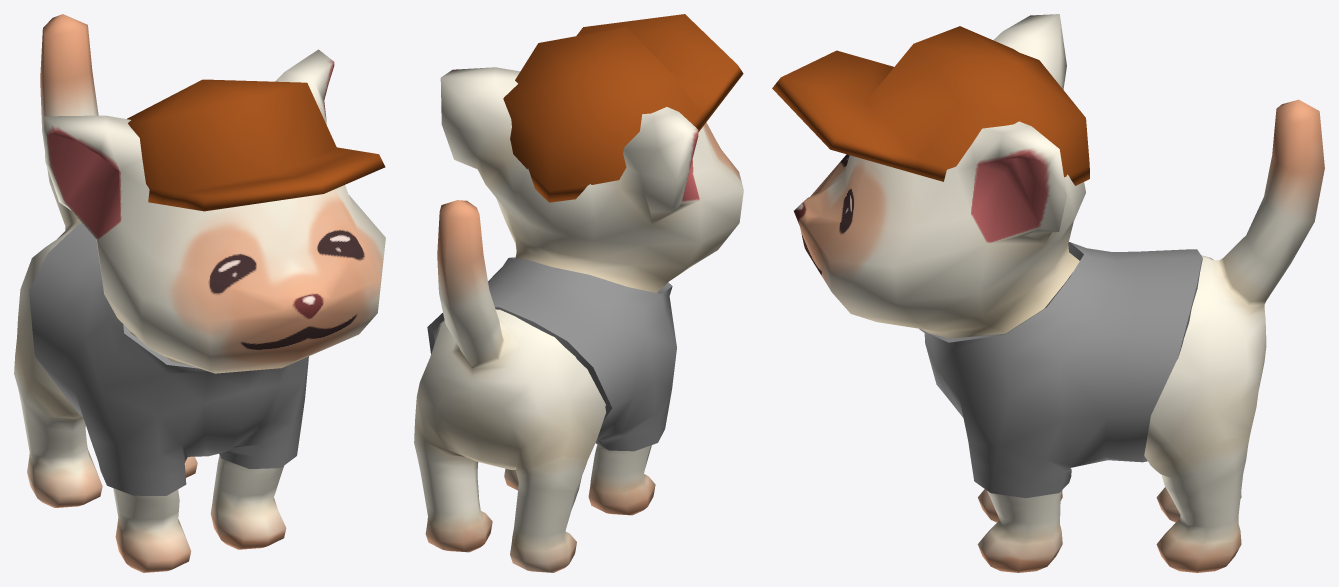
The model's file is Leader Cat02.fbx.
3 views of the same model, side by side, from view 1: azimuth 30°, elevation 25°; view 2: azimuth 150°, elevation 25°; view 3: azimuth 270°, elevation 25° (orthographic). The views are drawn at different scales.
Parts seen in each view (by area): view 1: Cat_Base001, tshirt001, Org_Cat_Hat; view 2: Cat_Base001, Org_Cat_Hat, tshirt001; view 3: Cat_Base001, tshirt001, Org_Cat_Hat.
Boxes of the visible parts, left/top/right/bottom form: Cat_Base001: left=14, top=14, right=385, bottom=572; tshirt001: left=29, top=223, right=308, bottom=495; Org_Cat_Hat: left=127, top=79, right=385, bottom=211; Cat_Base001: left=414, top=67, right=743, bottom=572; Org_Cat_Hat: left=503, top=14, right=743, bottom=202; tshirt001: left=427, top=257, right=676, bottom=451; Cat_Base001: left=794, top=14, right=1324, bottom=572; tshirt001: left=919, top=242, right=1202, bottom=498; Org_Cat_Hat: left=772, top=26, right=1089, bottom=185.
Bounding box in the file's own units: 1.75 × 2.95 × 2.91.
3 materials, 1 textured.
